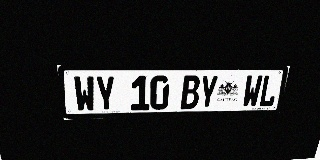0: (150, 76, 169, 110)
1: (131, 76, 150, 110)
B: (180, 75, 201, 109)
L: (258, 75, 280, 107)
W: (73, 76, 96, 112), (242, 75, 263, 107)
Y: (94, 76, 116, 111), (198, 75, 219, 109)
